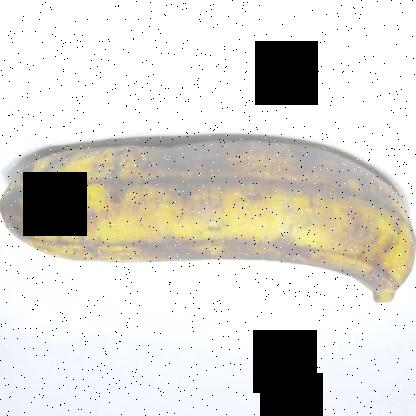overripe: (0, 125, 415, 321)
